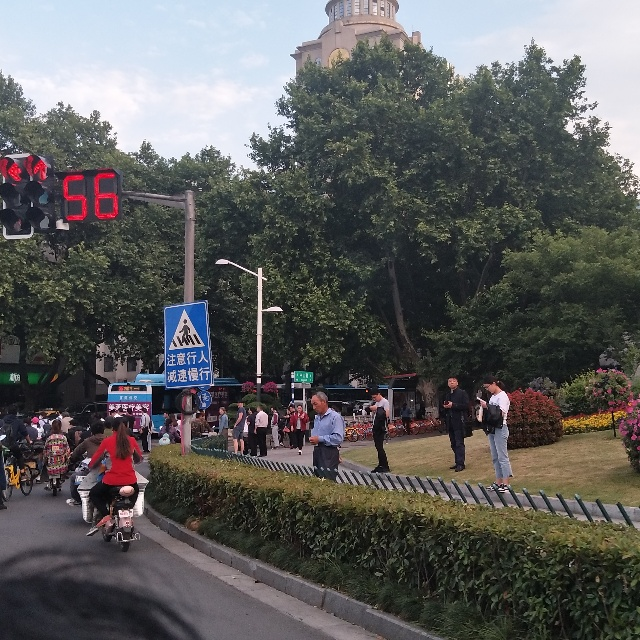crosswalk: (163, 302, 211, 352)
